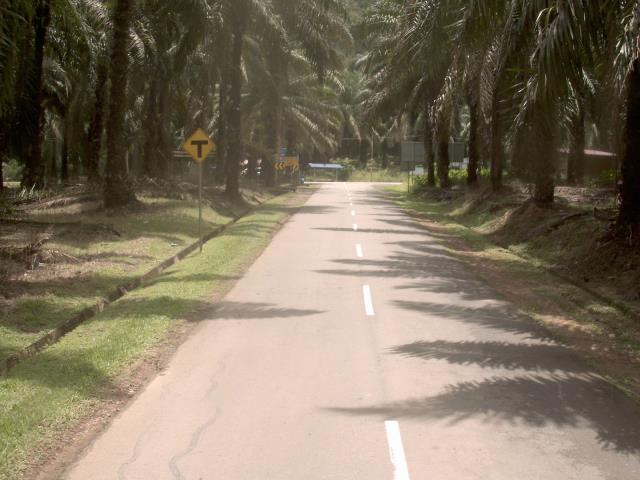traffic_sign: (176, 120, 222, 169)
